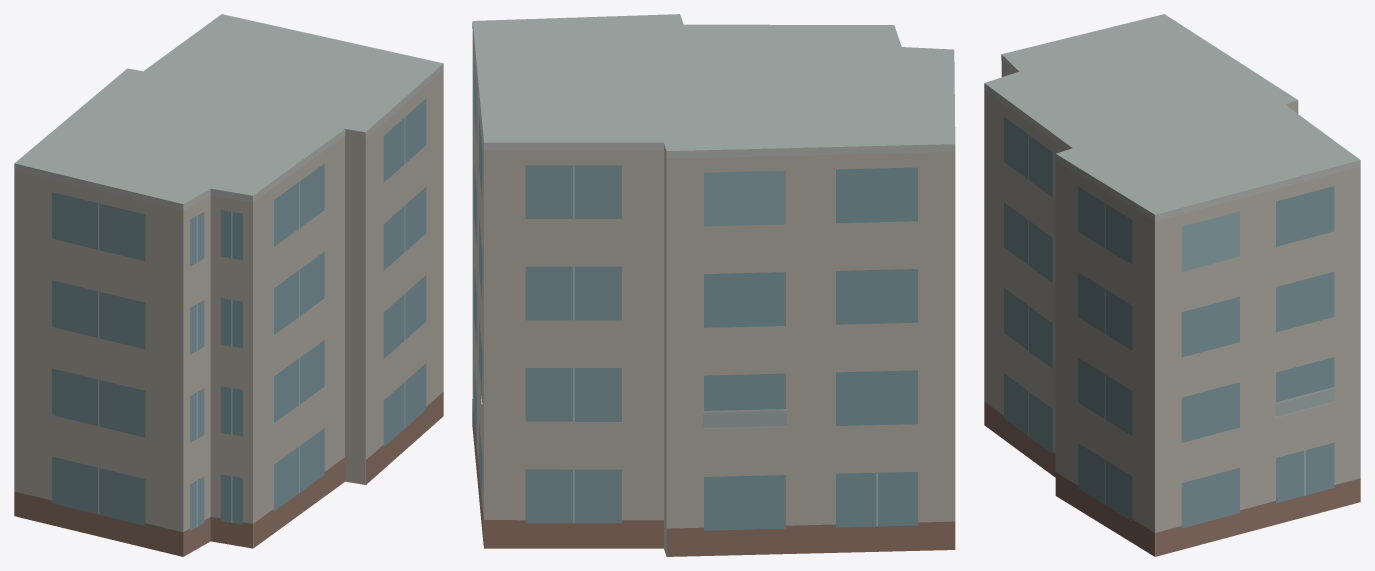
Rendered from survey-upis-32916528.glb.
3 views of the same model, side by side, from view 1: azimuth 30°, elevation 25°; view 2: azimuth 150°, elevation 25°; view 3: azimuth 270°, elevation 25° (orthographic). The views are drawn at different scales.
Parts seen in each view (by area): view 1: survey-upis-32916528.tmp; view 2: survey-upis-32916528.tmp; view 3: survey-upis-32916528.tmp.
Boxes of the visible parts, x1,y1,x2,y2 form: survey-upis-32916528.tmp: [14, 14, 443, 556]; survey-upis-32916528.tmp: [472, 14, 955, 556]; survey-upis-32916528.tmp: [984, 14, 1360, 556].
Size of the model in its own units: 16.13 by 12.8 by 12.78.
